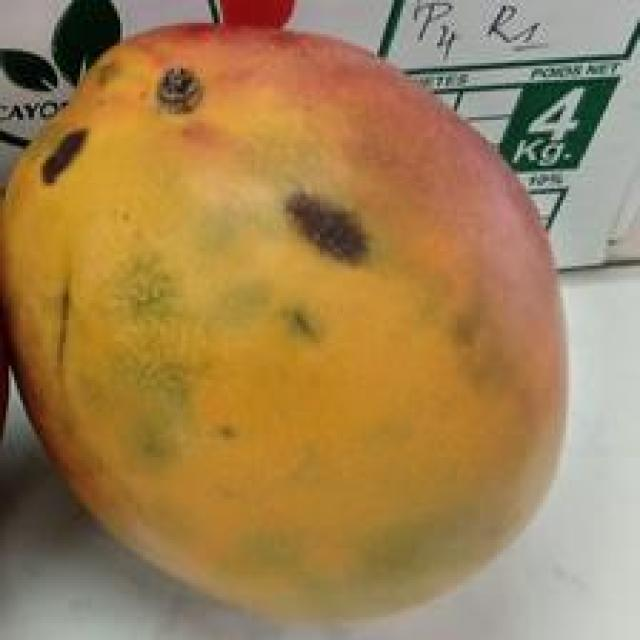Mango: (12, 39, 575, 624)
